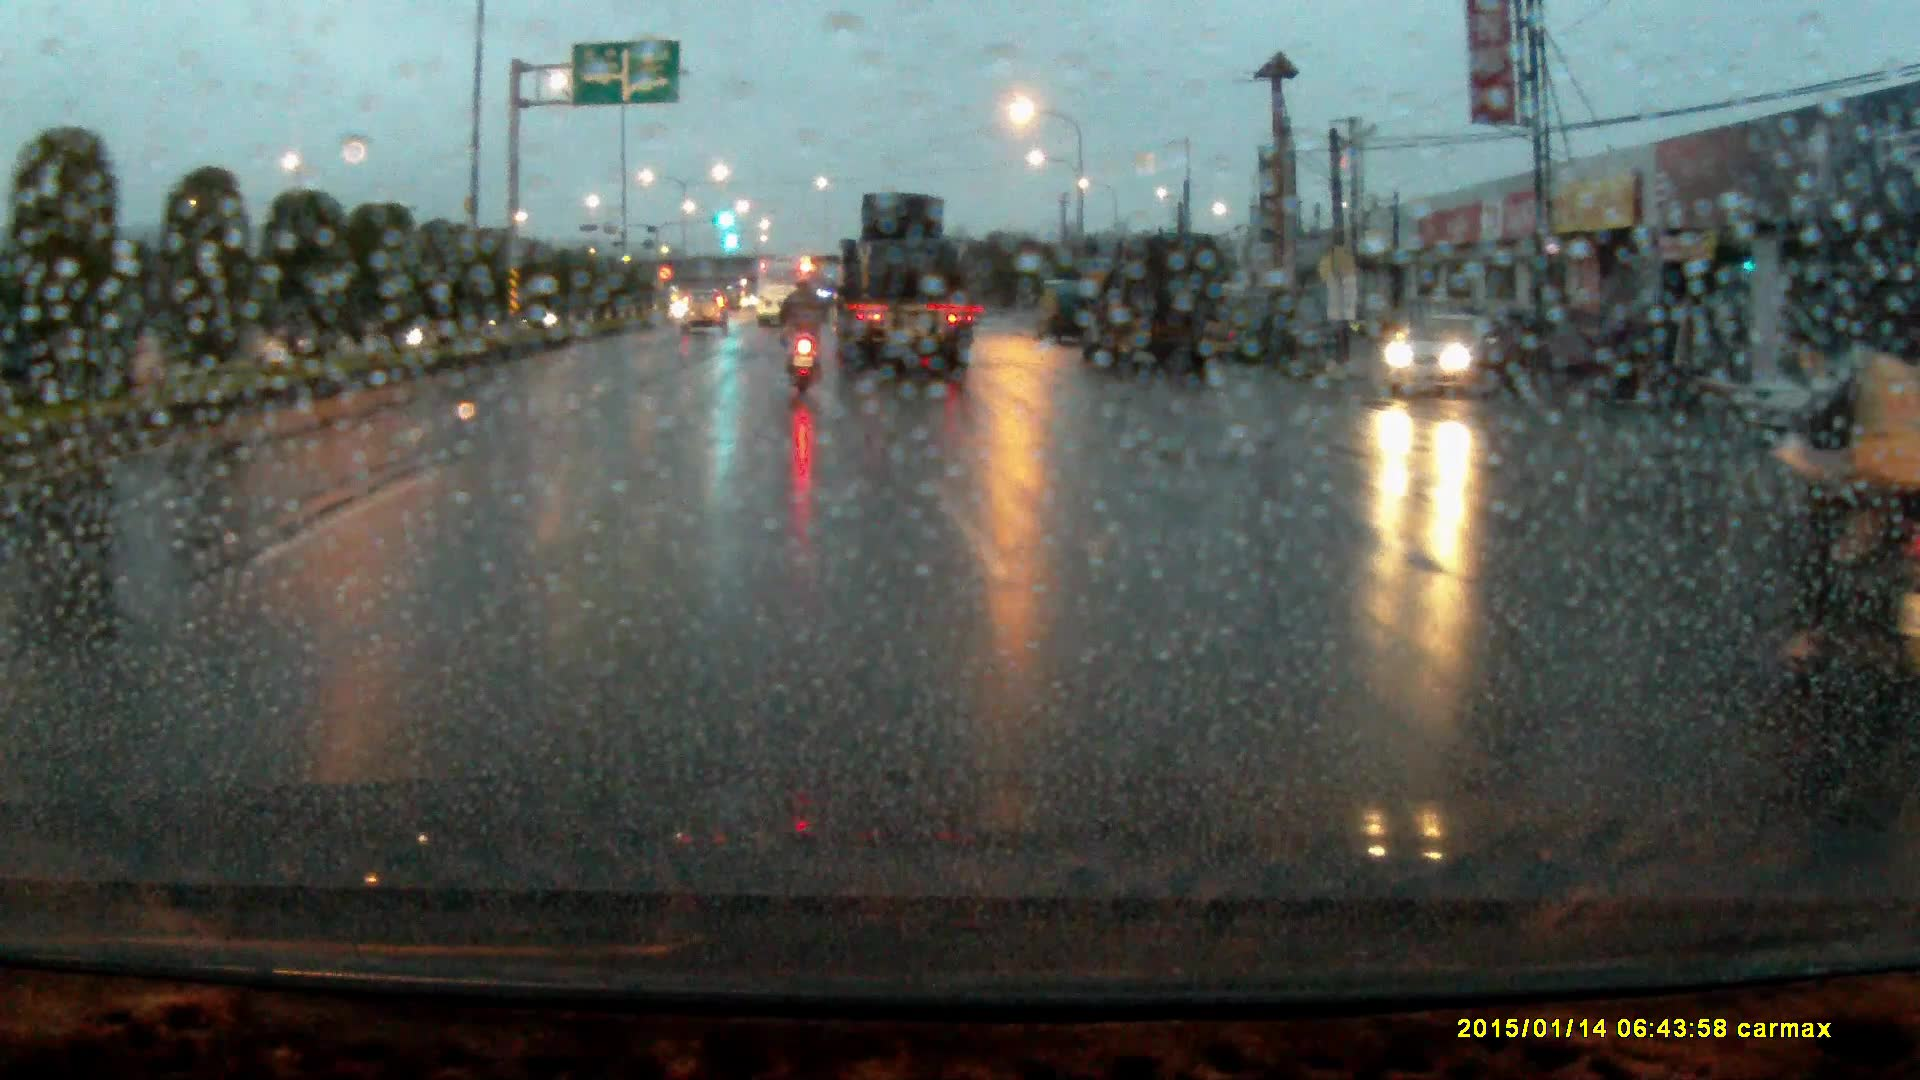rider: (1760, 249, 1920, 690), (780, 272, 837, 399)
vehicle: (833, 194, 972, 377), (1082, 231, 1231, 379), (1388, 317, 1526, 408), (757, 263, 816, 324), (1038, 283, 1091, 346), (681, 291, 731, 339)
